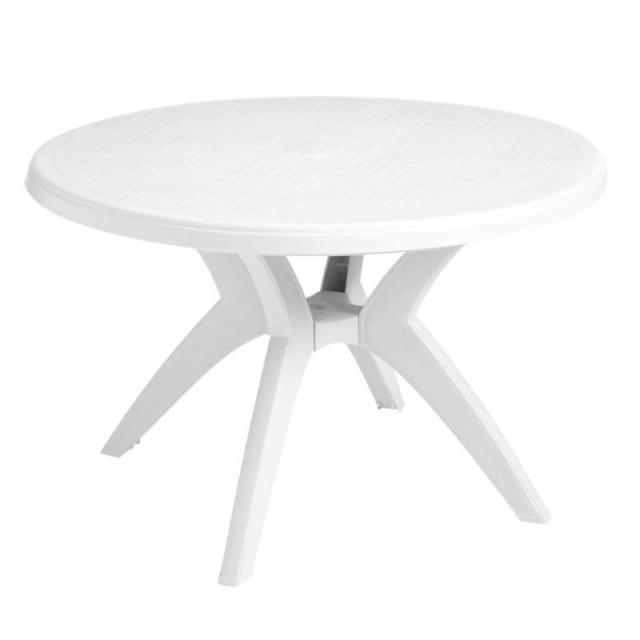table: (22, 94, 611, 586)
